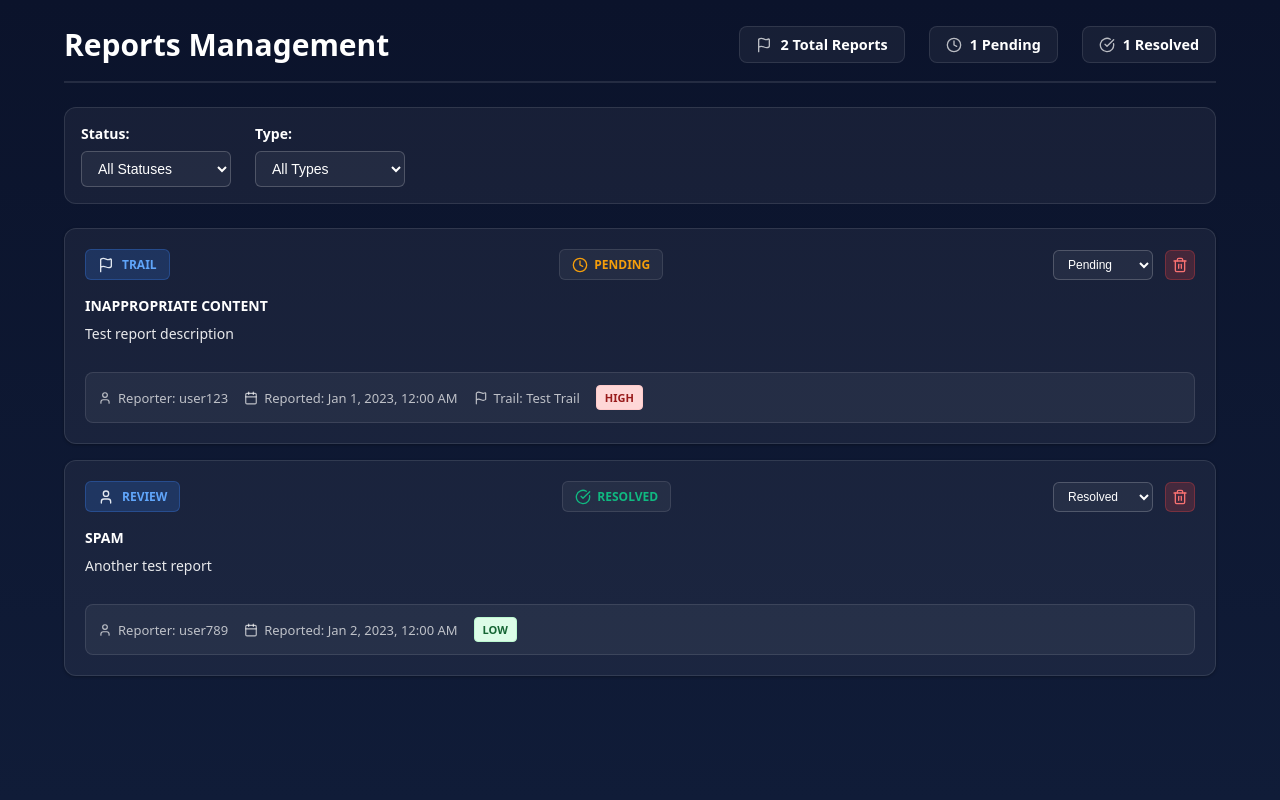
ReportsManagement › filters reports by status
The image size is (1280, 800).
Expected: the text "2 Total Reports" is shown, [780, 35, 888, 54]
Select "Pending" in the dropdown labelled "Status:". click: (156, 169)
box: [81, 151, 231, 187]
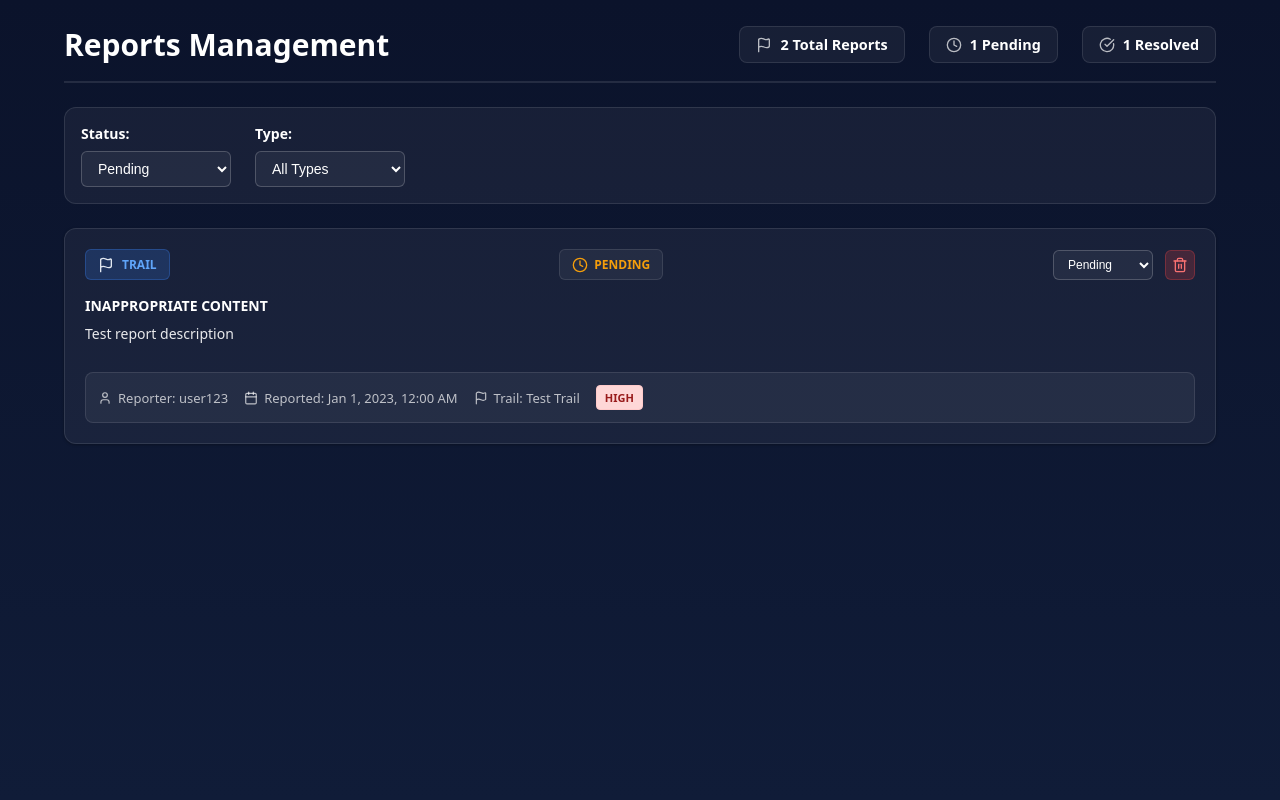
Expected: the heading "INAPPROPRIATE CONTENT" is shown, [85, 296, 268, 315]
Result: the text "Another test report" is gone
